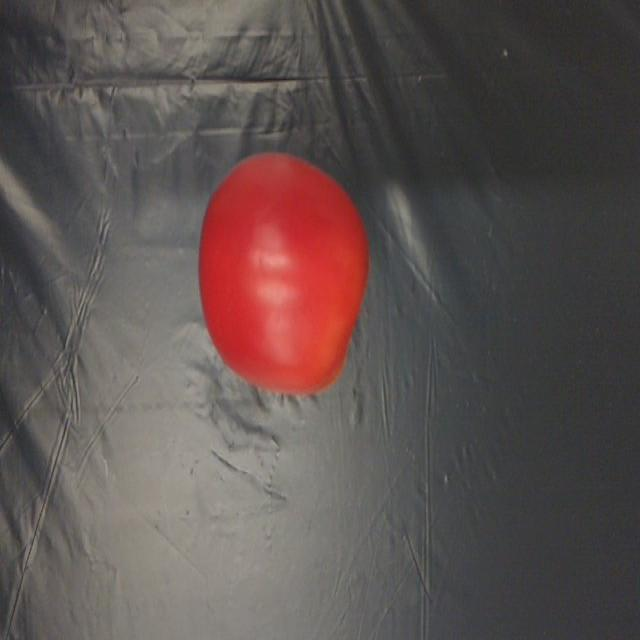kirmizi: (192, 146, 364, 404)
